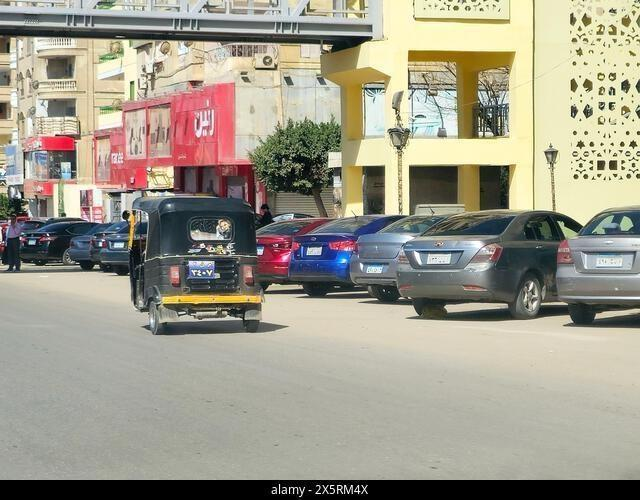keke: (128, 186, 286, 349)
